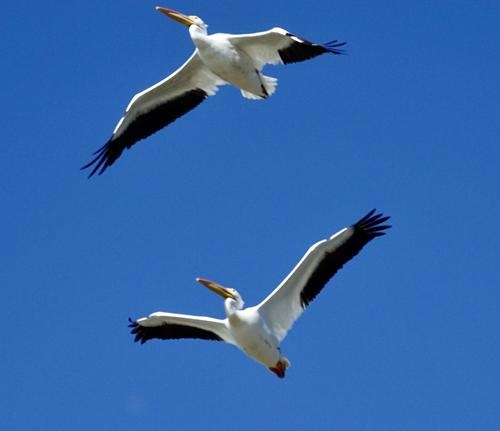bird: (68, 15, 367, 183), (119, 208, 392, 381)
